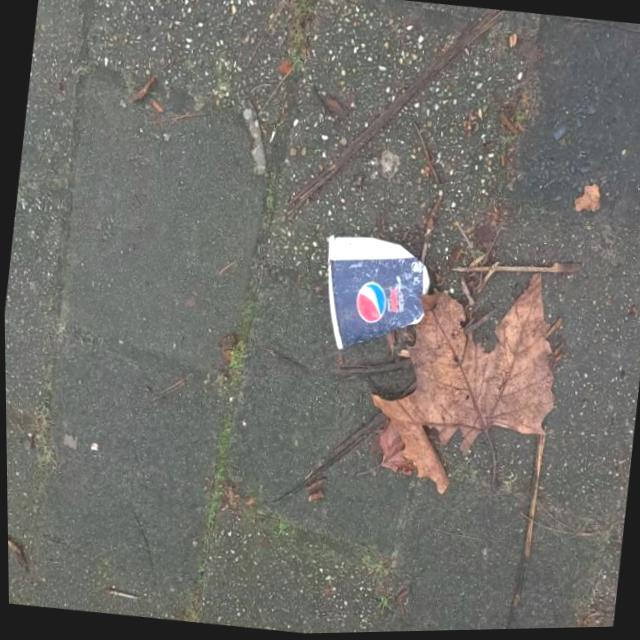Cup: (305, 223, 438, 367)
